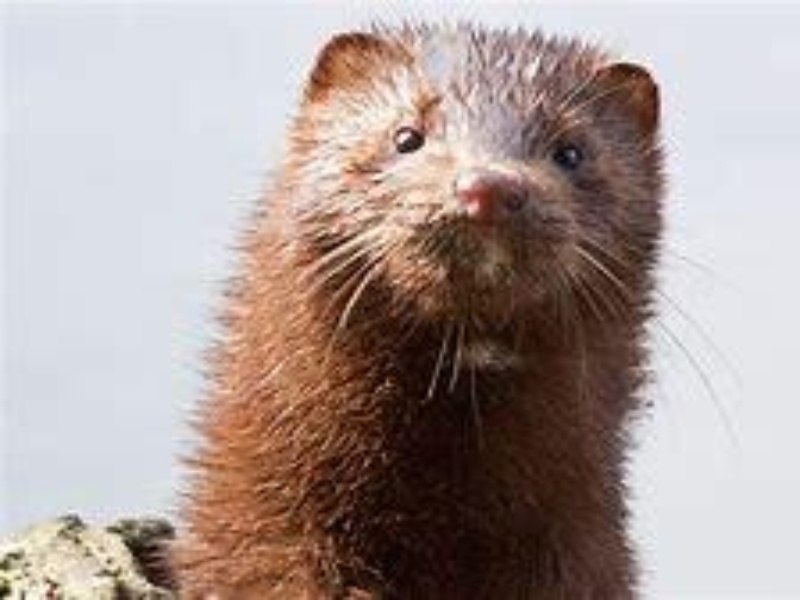minkish: (168, 17, 672, 600)
